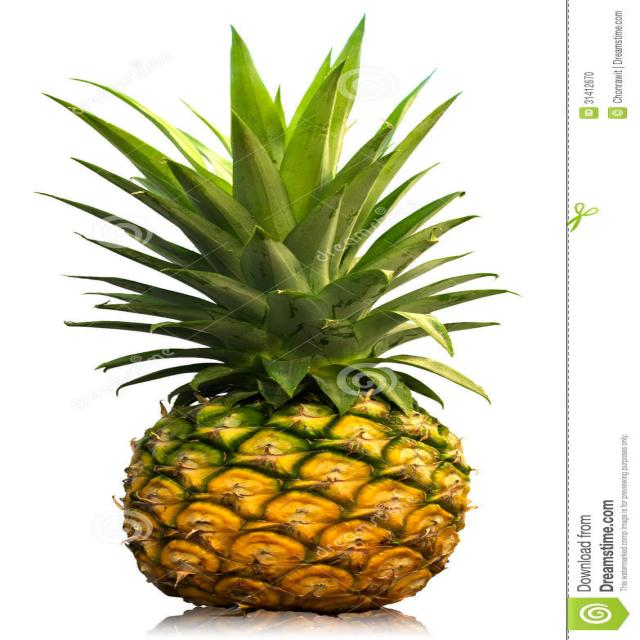pineapple: (120, 278, 484, 624)
